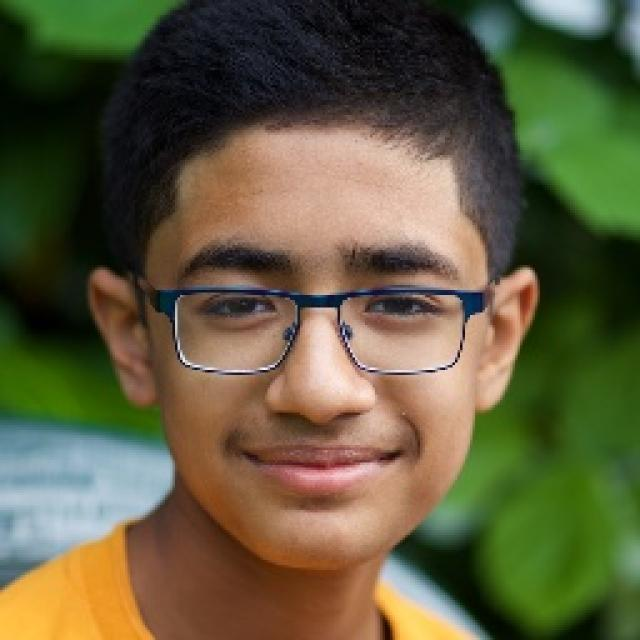earlobe: (87, 266, 160, 408), (474, 267, 539, 412)
